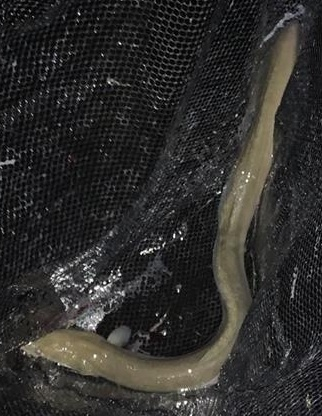Anguilla anguilla: (20, 20, 302, 396)
